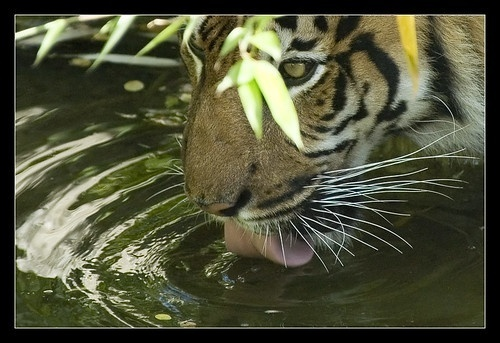tigre: (175, 14, 484, 271)
